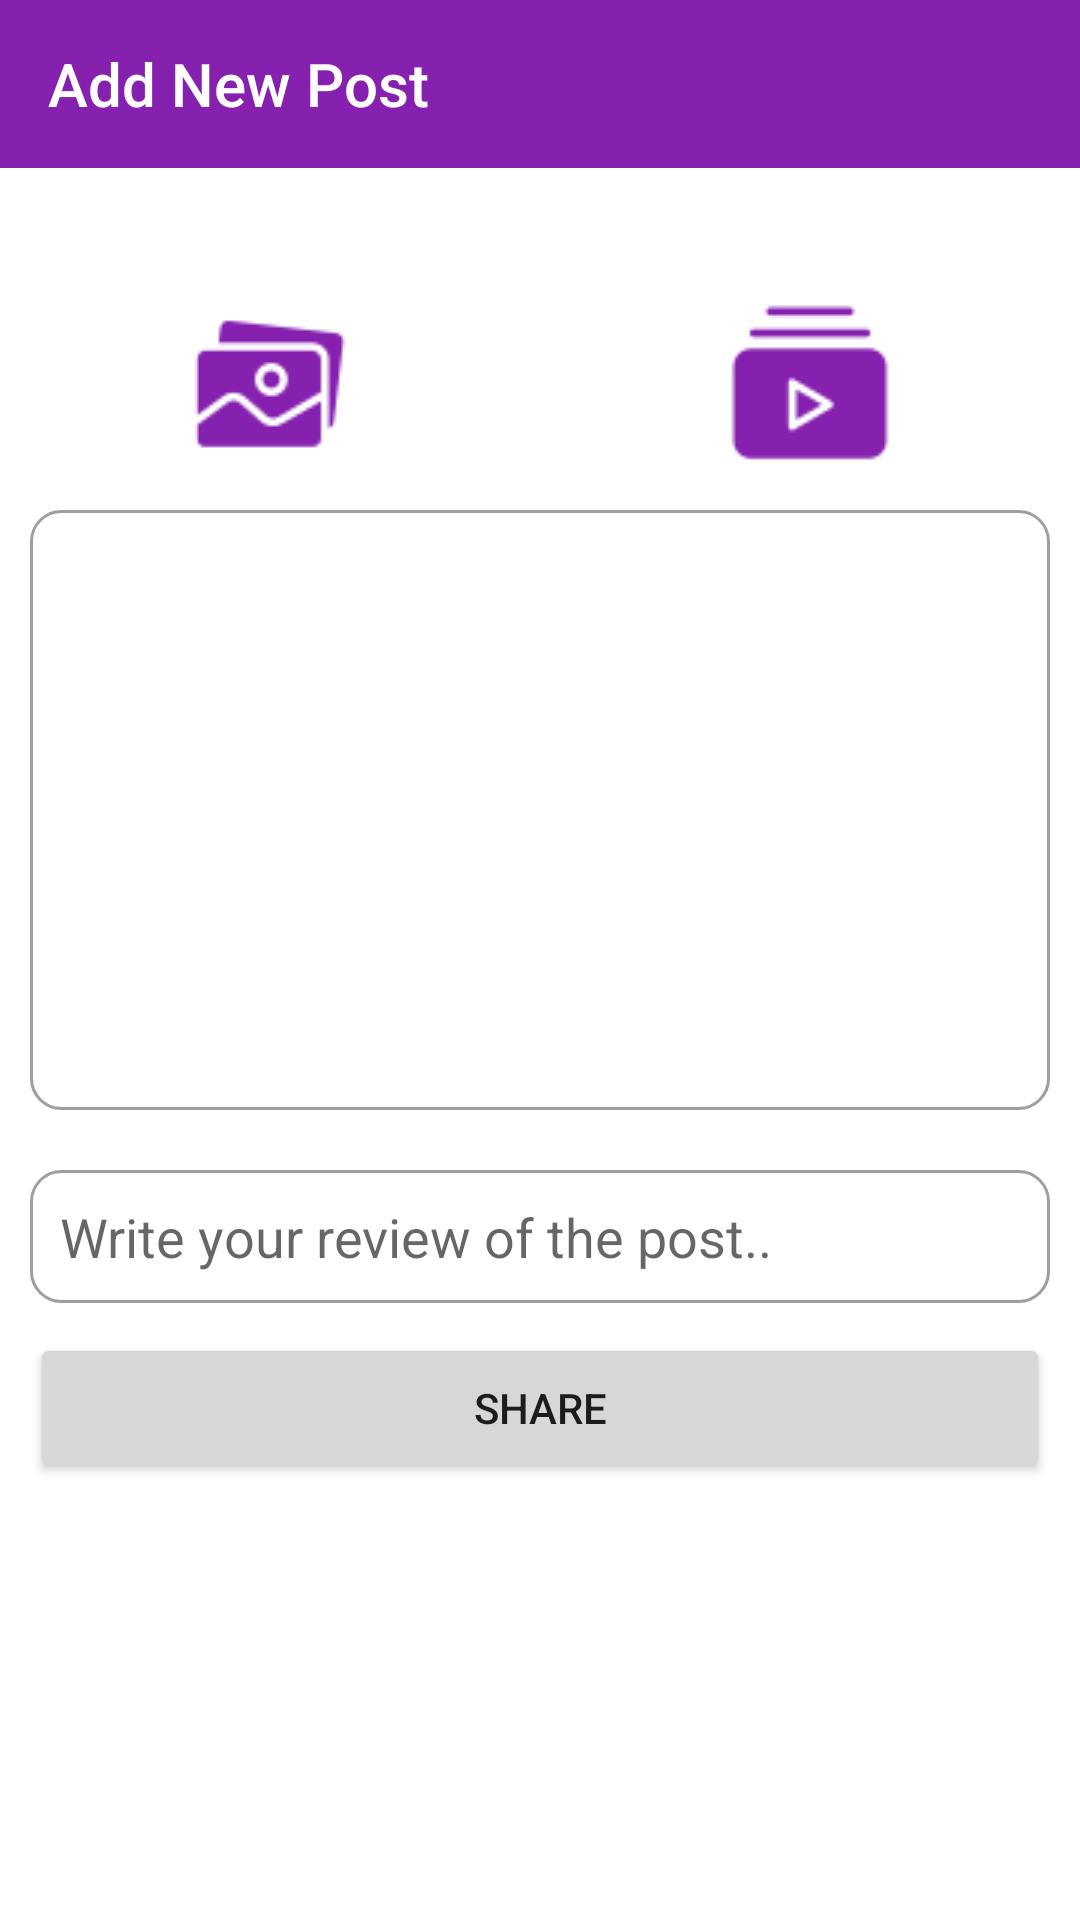

Named icons in this screenshot (1080*1920) and their centers, point (x, y):
gallery: point (270, 384)
videos: point (810, 382)
